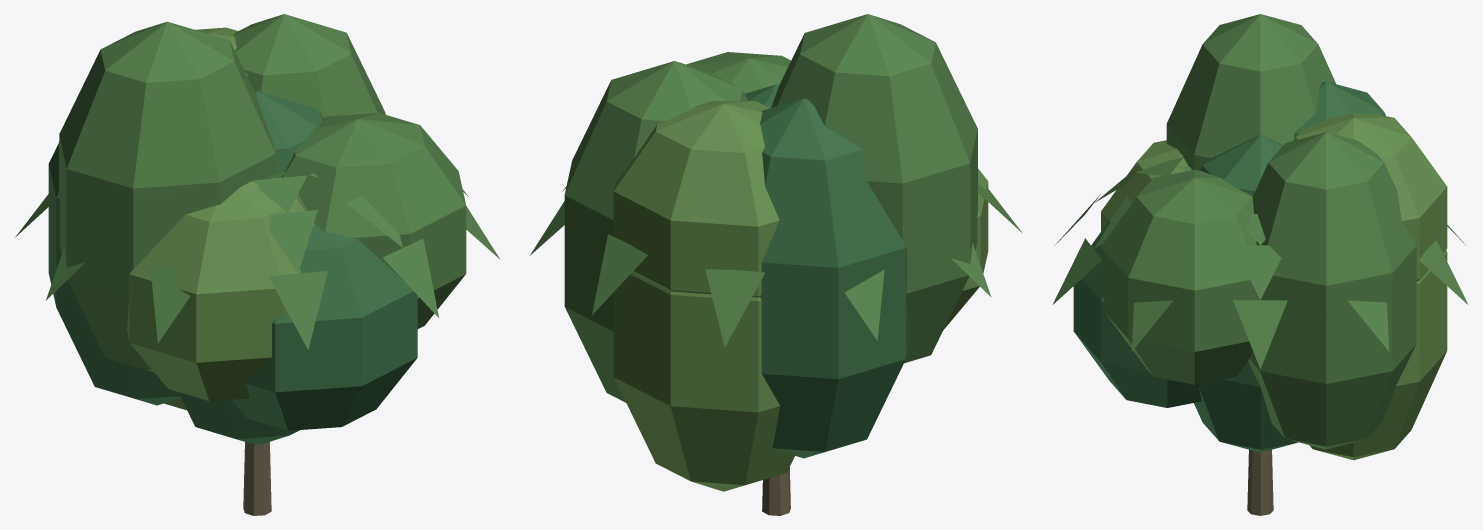
File: trees.glb
3 renders of one model, left to right at view 1: azimuth 30°, elevation 25°; view 2: azimuth 150°, elevation 25°; view 3: azimuth 270°, elevation 25°, orthographic. The views are drawn at different scales.
Visible parts, largest first — view 1: Tree-far-template-0, Tree-far-template-1, Tree-far-template-2; view 2: Tree-far-template-1, Tree-far-template-0, Tree-far-template-2; view 3: Tree-far-template-1, Tree-far-template-0, Tree-far-template-2.
Boxes of the visible parts, x1,y1,x2,y2 form: Tree-far-template-0: (56, 27, 466, 515); Tree-far-template-1: (48, 14, 385, 444); Tree-far-template-2: (15, 172, 500, 349); Tree-far-template-1: (564, 14, 977, 491); Tree-far-template-0: (613, 52, 988, 515); Tree-far-template-2: (530, 183, 1022, 347); Tree-far-template-1: (1166, 14, 1447, 460); Tree-far-template-0: (1073, 113, 1447, 515); Tree-far-template-2: (1052, 156, 1468, 369).
Size of the model in its own units: 8 by 9.21 by 7.61.
